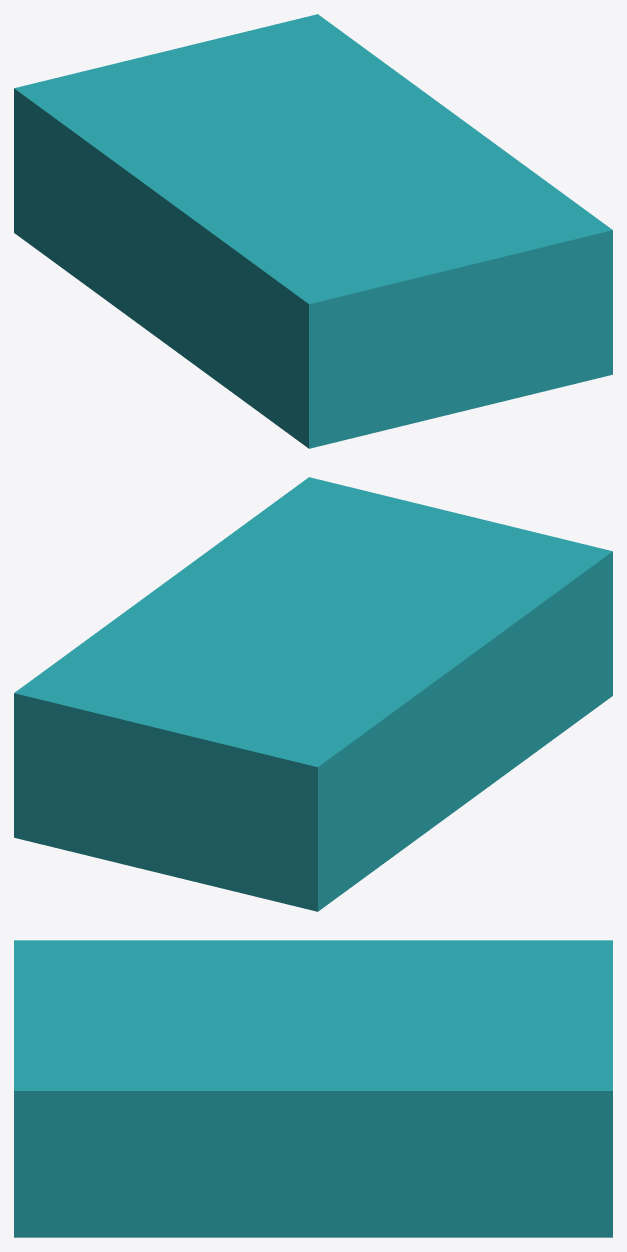
File: wardrobe.glb
The picture shows the model from 3 angles, top to bottom: view 1: azimuth 30°, elevation 25°; view 2: azimuth 150°, elevation 25°; view 3: azimuth 270°, elevation 25°; orthographic projection.
Parts seen in each view (by area): view 1: world; view 2: world; view 3: world.
Part boxes in pixels (bbox=[...]): world: bbox=[14, 14, 612, 448]; world: bbox=[14, 477, 612, 911]; world: bbox=[14, 940, 612, 1237].
Bounding box in the file's own units: 1.1 × 0.5225 × 1.85.
